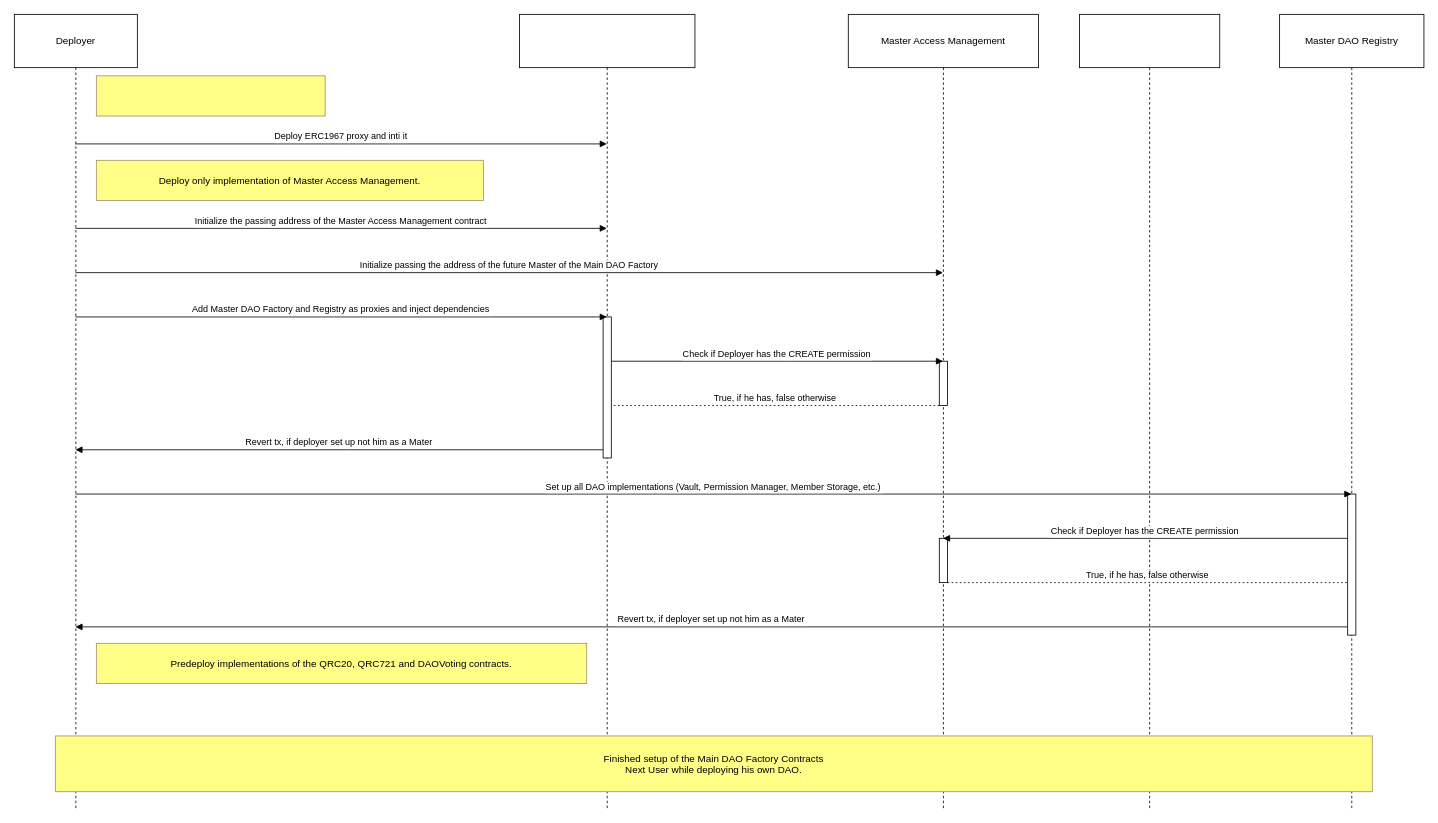
Some shapes in this 1438 by 823 pixel diagram are drawn without their labels. Each missing label, with the box of its shape:
Deployes and initialize the system.: (96, 75, 325, 116)
Master Contracts Registry: (519, 14, 695, 809)
Master DAO Factory: (1079, 14, 1220, 809)
